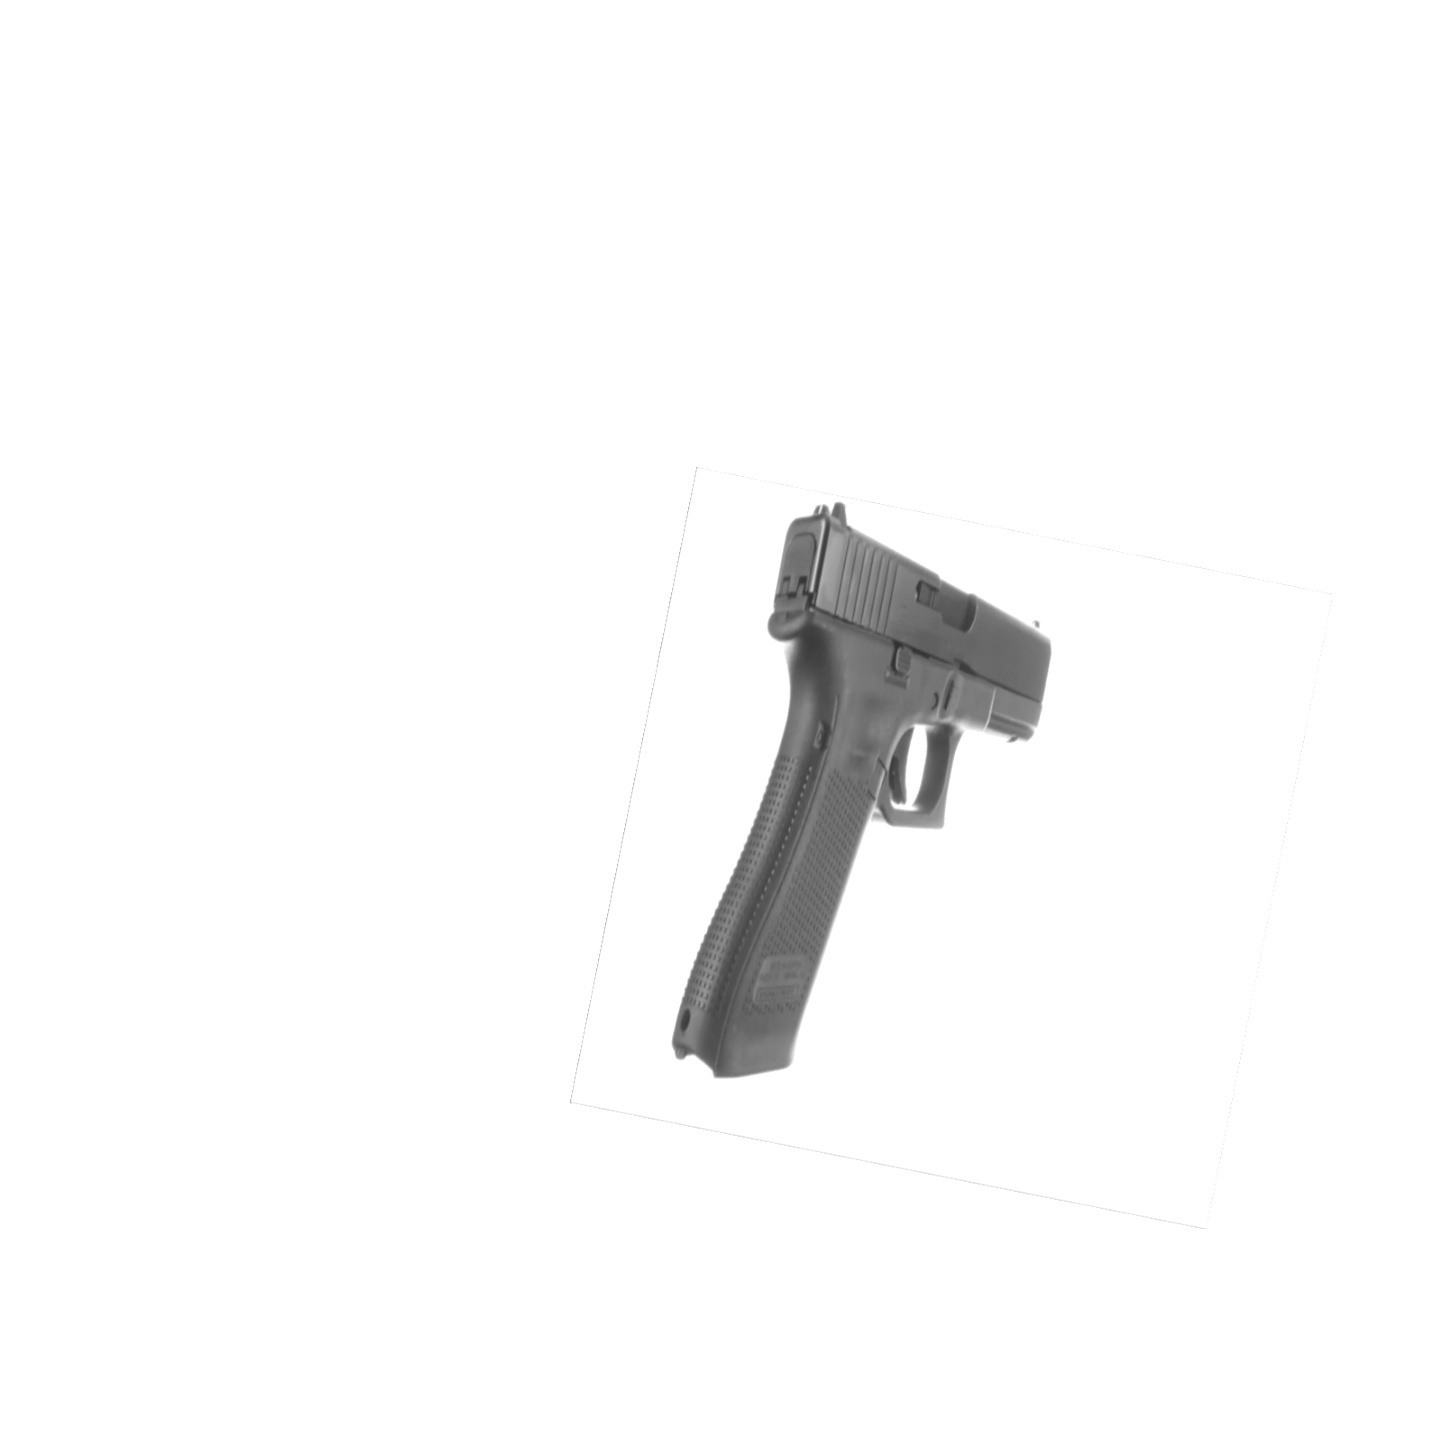gun: (664, 500, 1060, 1082)
